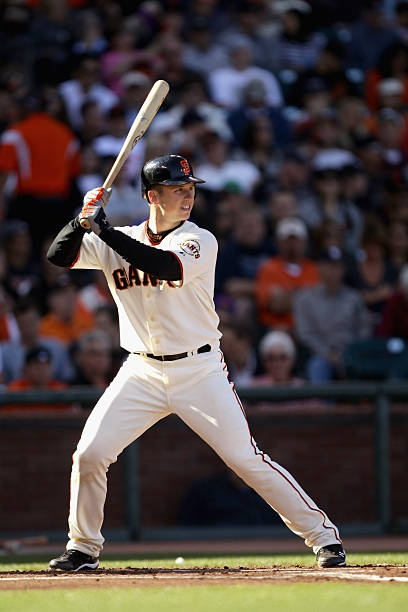bita: (78, 73, 174, 234)
